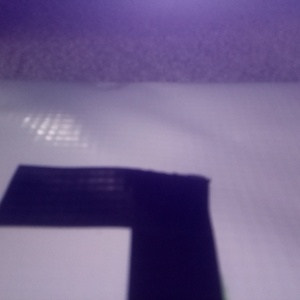bottom_left: (1, 99, 101, 174)
top_right: (38, 42, 140, 87)
